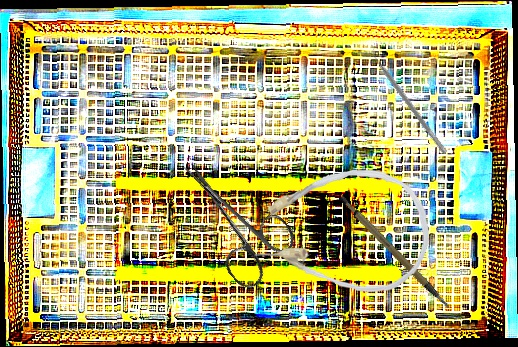Cannula: (252, 165, 432, 295)
Iris Scissors: (156, 140, 305, 294)
Scalpel Handle: (336, 183, 451, 324)
Spatula Surgical: (366, 46, 453, 155)
